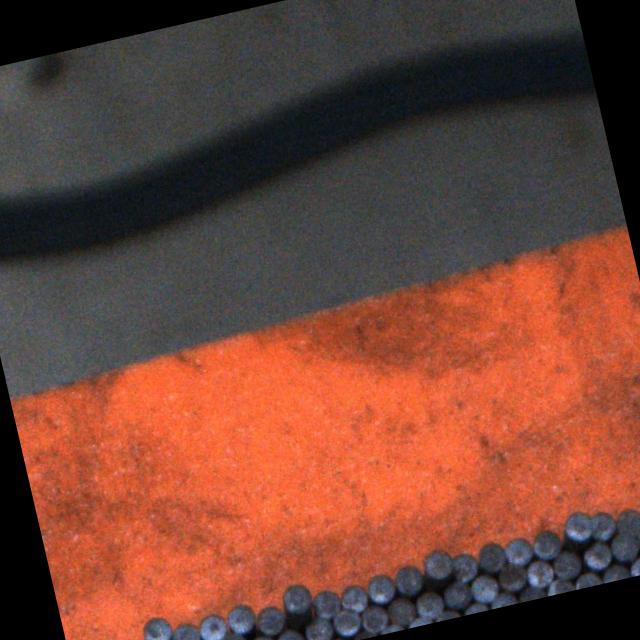tool: (559, 507, 595, 543), (473, 538, 508, 574), (223, 600, 257, 636), (279, 580, 313, 616), (528, 526, 562, 562), (252, 602, 286, 637), (309, 586, 342, 622), (419, 546, 453, 580), (363, 571, 396, 606), (391, 562, 424, 597), (501, 533, 534, 568), (467, 571, 500, 604), (586, 508, 618, 542), (336, 582, 369, 614), (441, 580, 474, 612), (495, 560, 528, 592), (607, 531, 640, 563), (612, 503, 640, 540), (384, 596, 416, 628), (412, 589, 444, 621), (522, 557, 554, 589), (550, 548, 582, 580), (580, 539, 612, 571), (194, 610, 228, 640), (448, 550, 478, 584), (138, 612, 174, 640), (331, 606, 362, 638), (358, 602, 389, 634), (303, 615, 334, 640), (168, 620, 201, 640), (572, 568, 602, 590), (600, 562, 630, 584), (543, 575, 574, 596), (488, 589, 517, 609), (516, 584, 546, 602), (273, 626, 305, 640), (215, 629, 248, 640), (627, 554, 640, 576), (247, 634, 278, 640)
